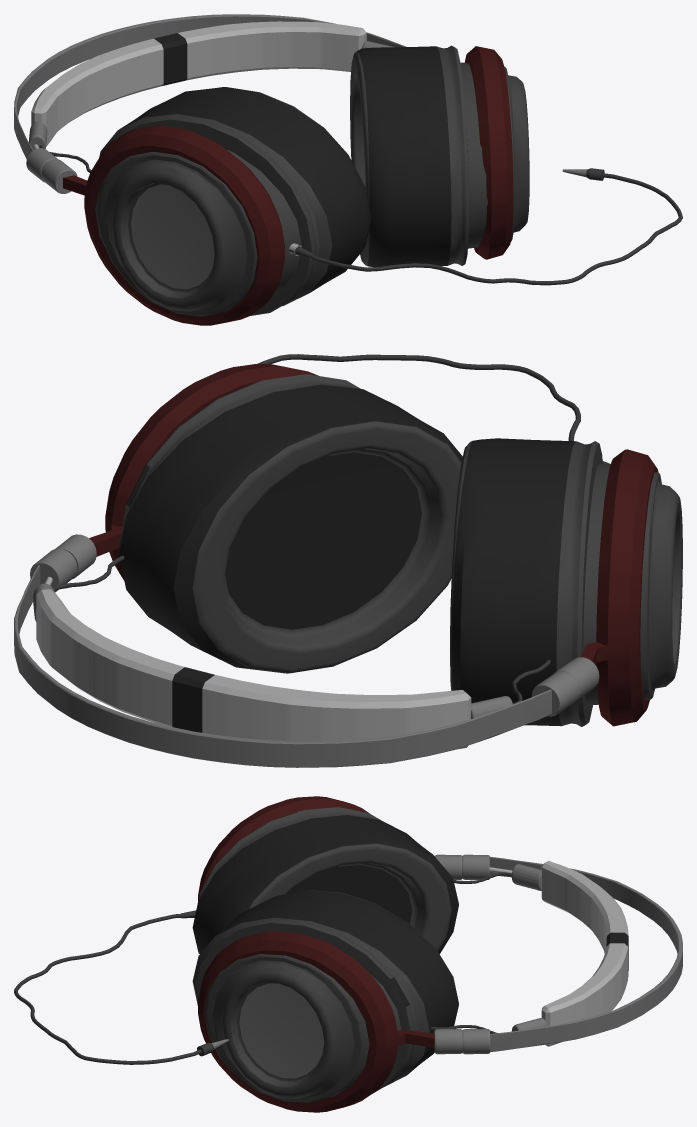
The model's file is heaphones.fbx.
3 renders of one model, top to bottom at view 1: azimuth 30°, elevation 25°; view 2: azimuth 150°, elevation 25°; view 3: azimuth 270°, elevation 25°, orthographic. The views are drawn at different scales.
Visible parts, largest first — view 1: pasted__pasted__pCylinder4; view 2: pasted__pasted__pCylinder4; view 3: pasted__pasted__pCylinder4.
Part boxes in pixels (left/top/right/bottom): pasted__pasted__pCylinder4: left=14, top=14, right=682, bottom=325; pasted__pasted__pCylinder4: left=14, top=354, right=682, bottom=767; pasted__pasted__pCylinder4: left=14, top=796, right=682, bottom=1112.
Size of the model in its own units: 16.6 by 6.76 by 23.25.
